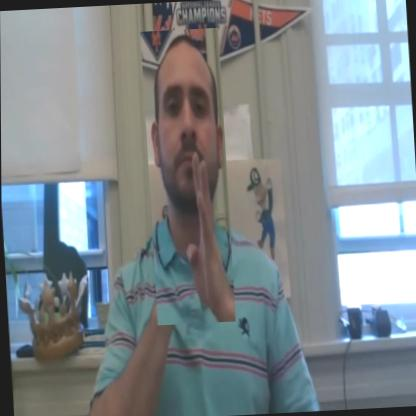Talk: (140, 27, 235, 325)
